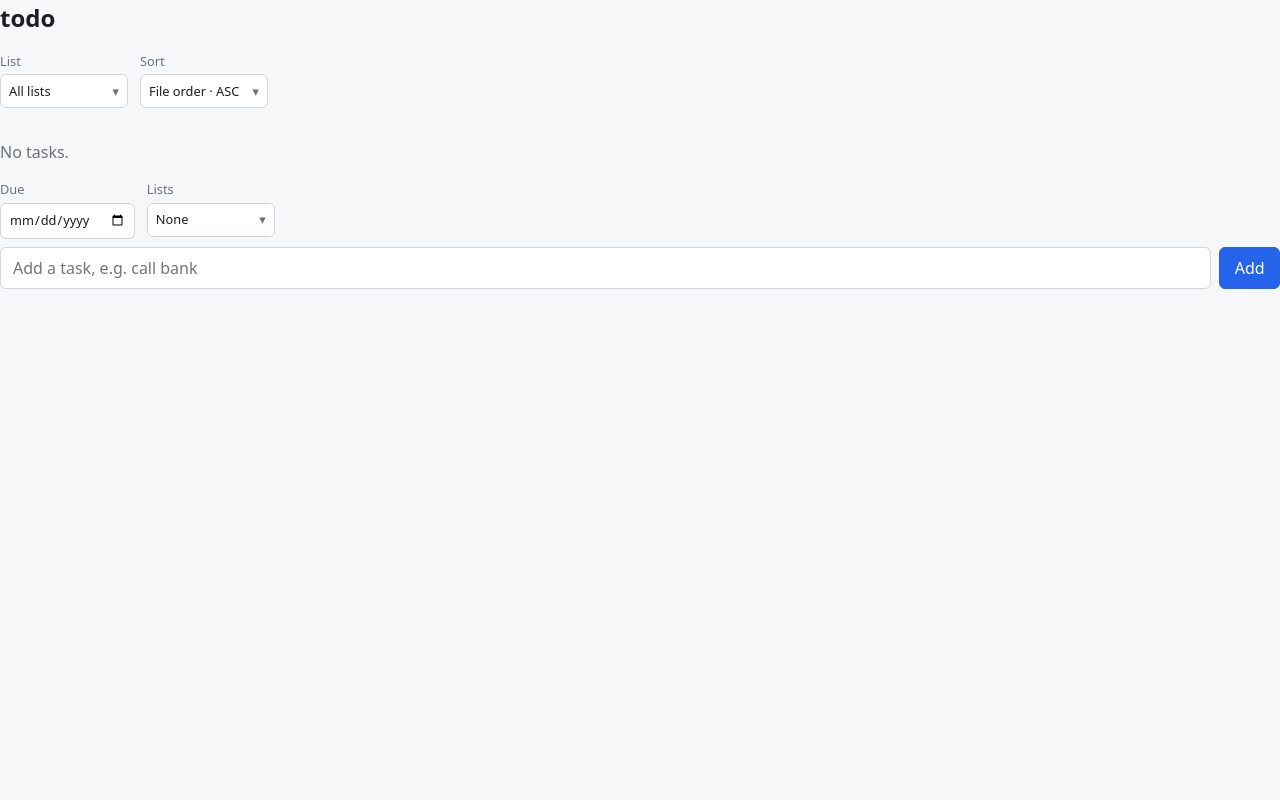
Test: TodoPane remembered labels › forgets an explicitly removed list and clears its filter
Click the button with aria-label "list filter". click: {"x": 64, "y": 91}
box: [0,74,128,108]
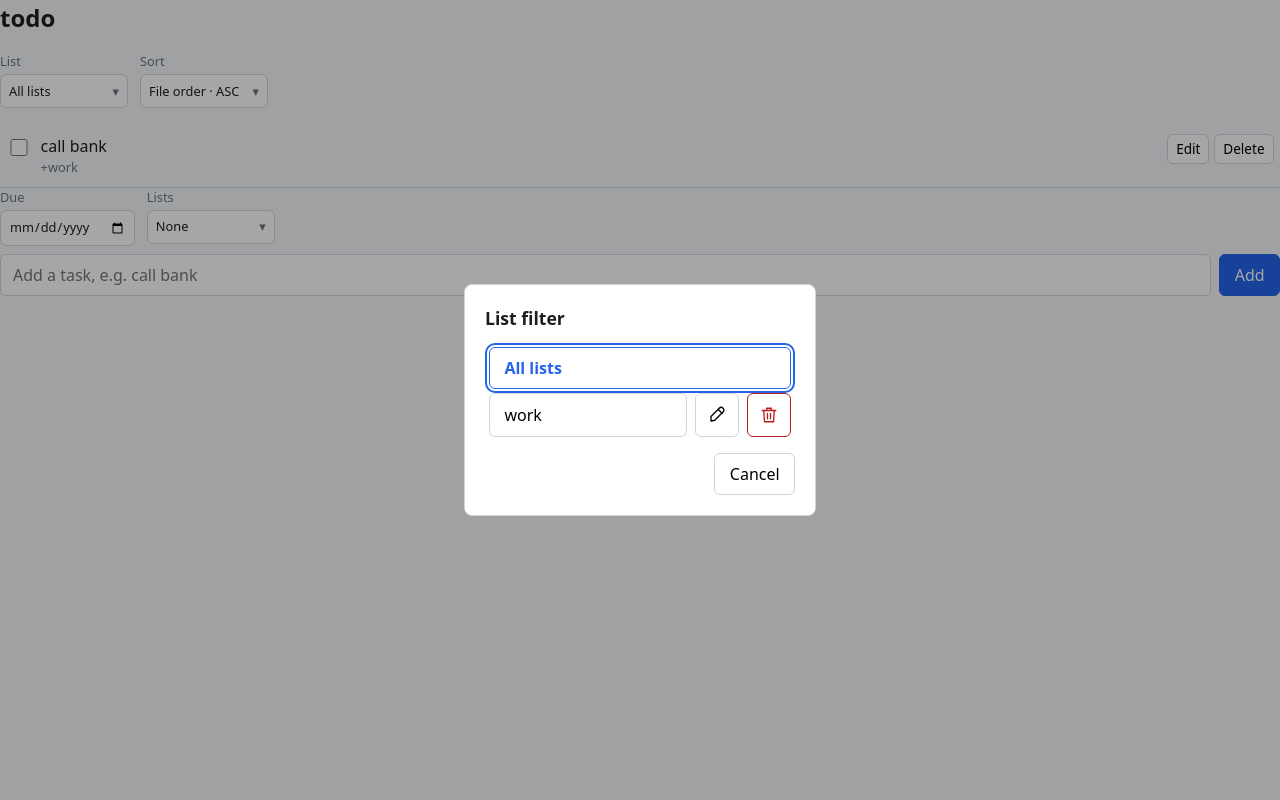
Click the button "work". click: {"x": 588, "y": 415}
box: [489,393,687,437]
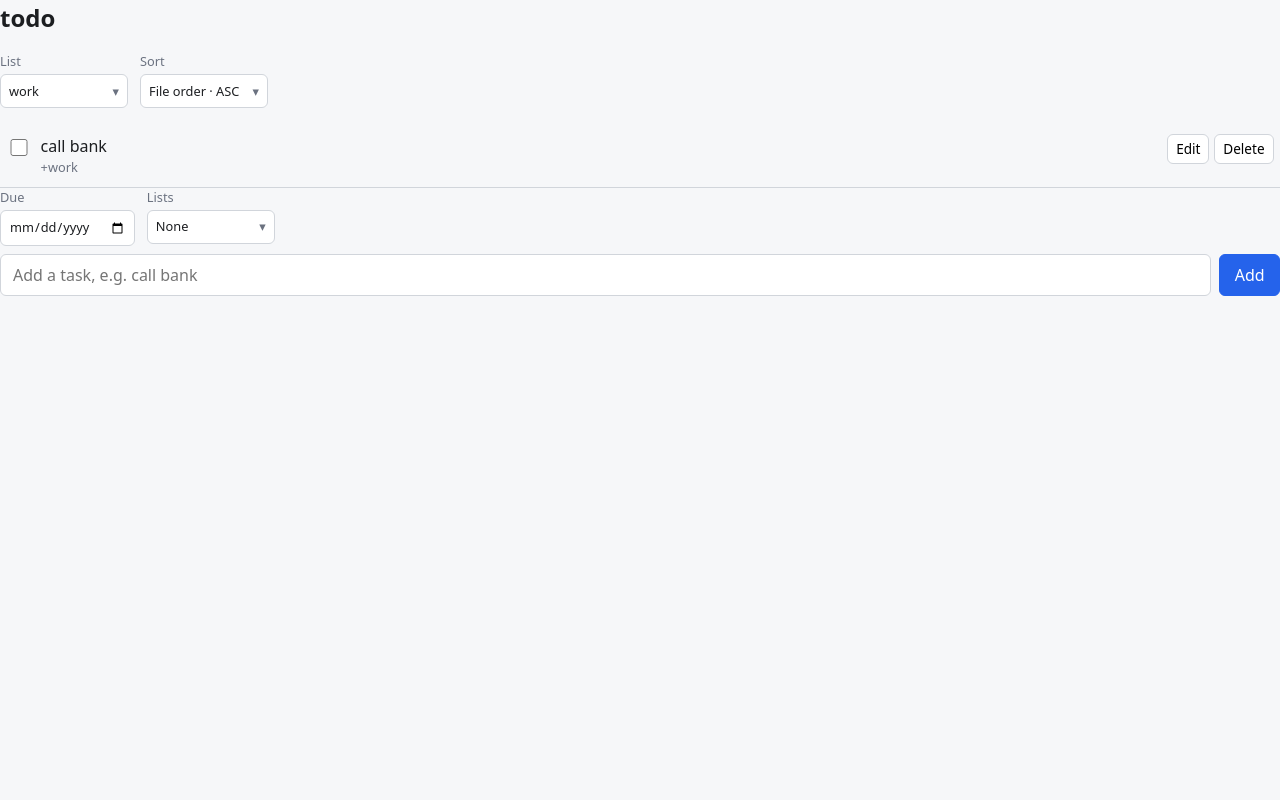
Click the button with aria-label "list filter". click: {"x": 64, "y": 91}
box: [0,74,128,108]
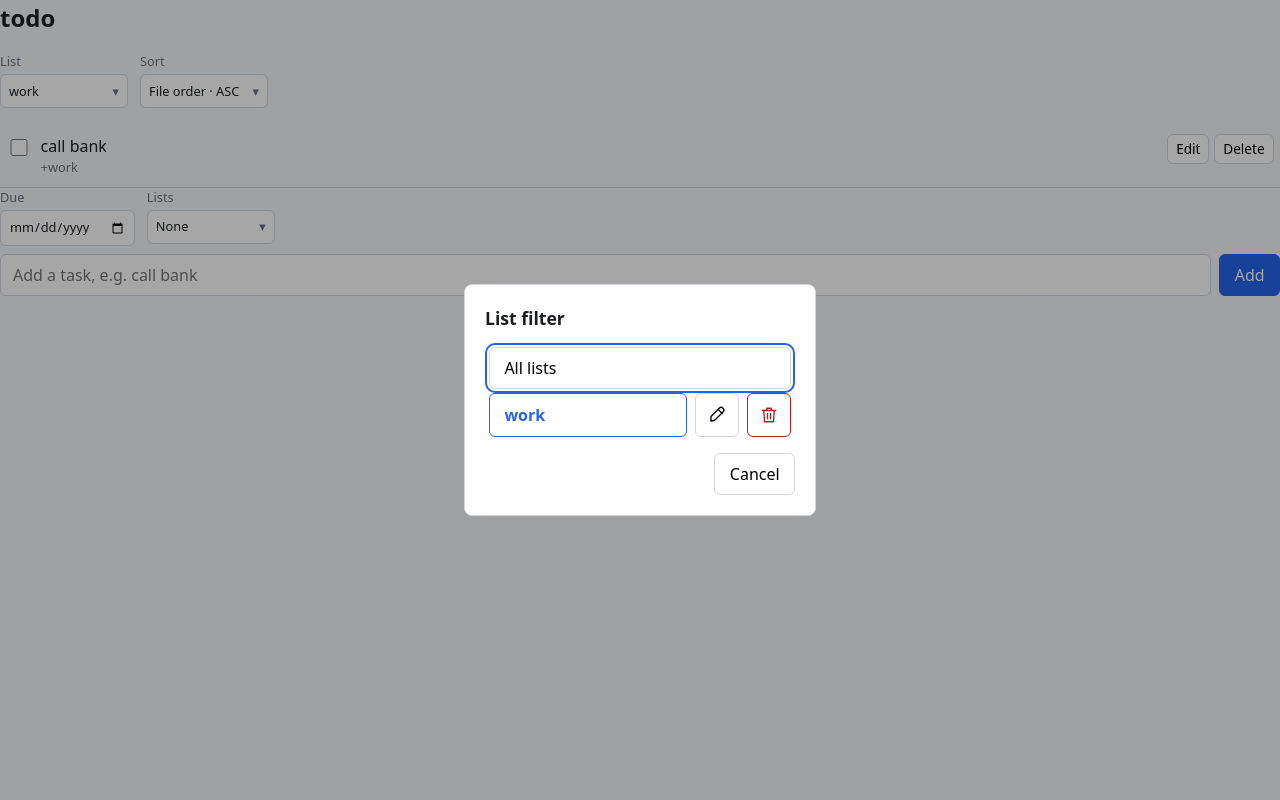
Click the button named "Remove work". click: {"x": 769, "y": 415}
box: [747,393,791,437]
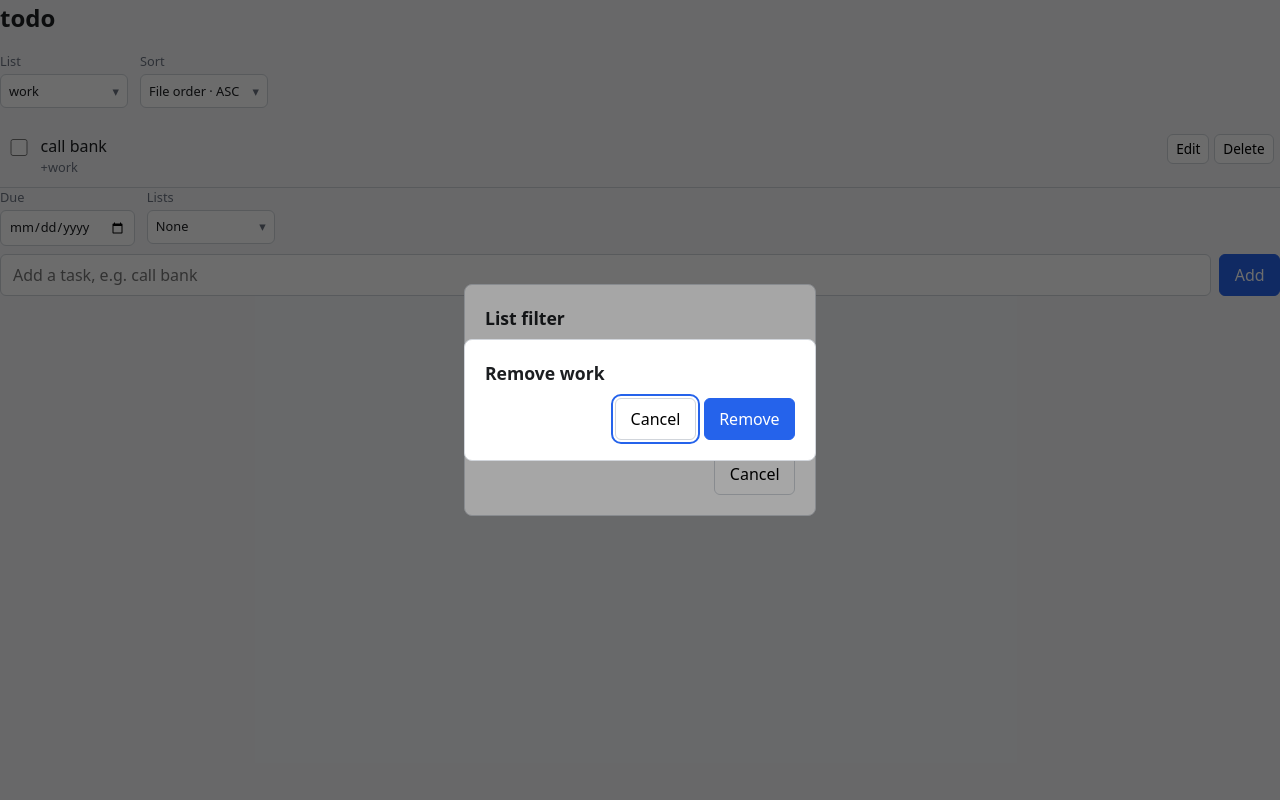
Click the button "Remove". click: {"x": 749, "y": 419}
box: [704,398,795,440]
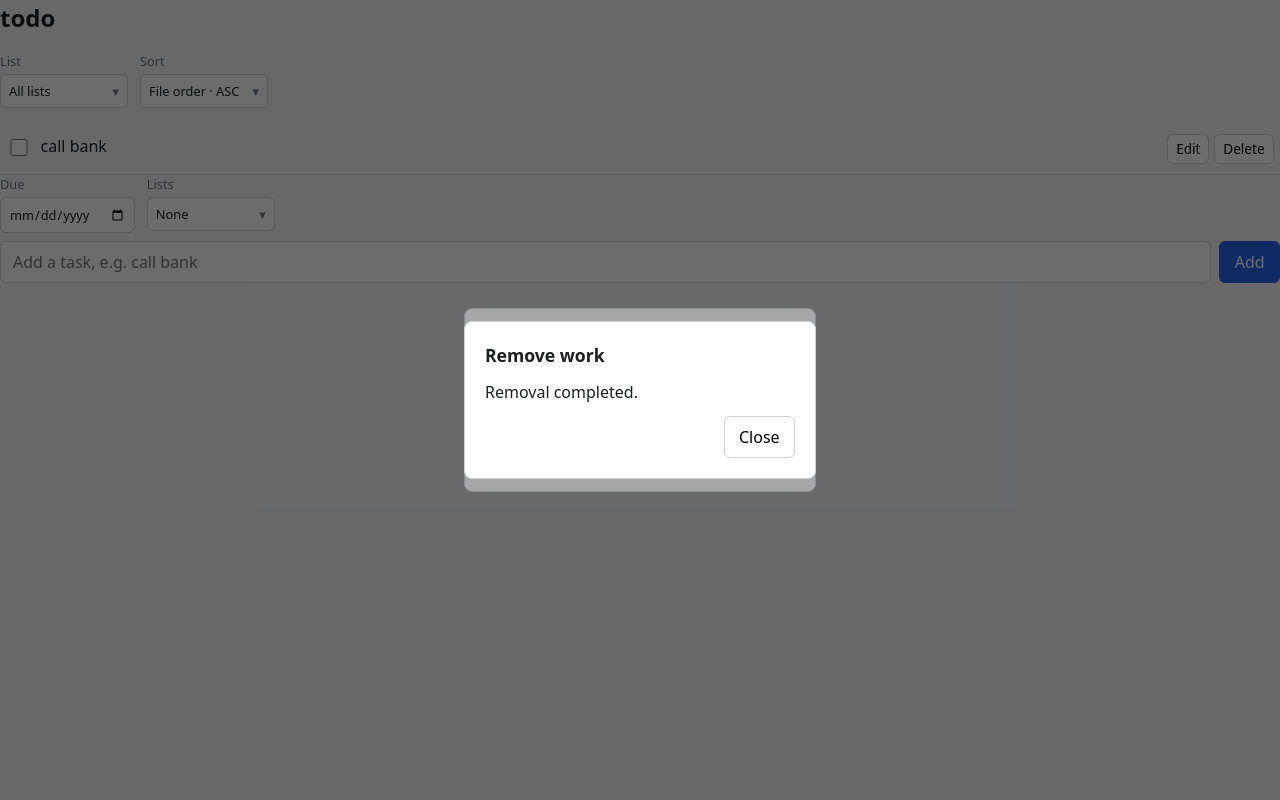
Expected: the button with aria-label "list filter" reads "All lists", [0,74,128,108]
